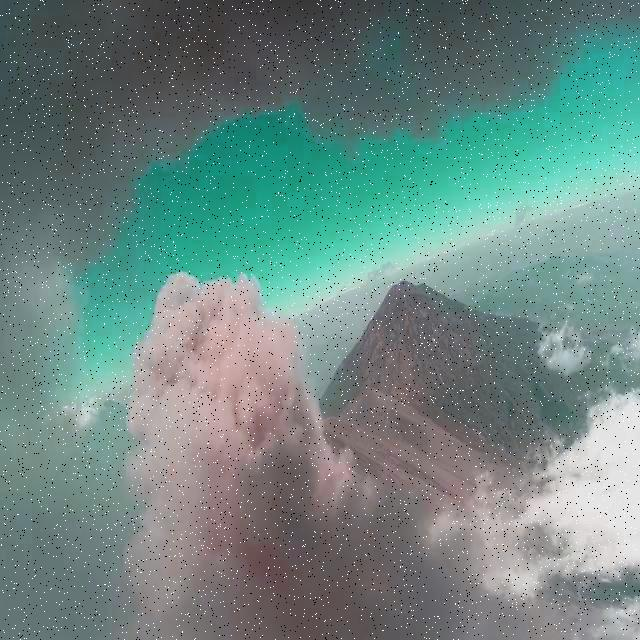Plume: (11, 0, 637, 231), (113, 257, 314, 640)
